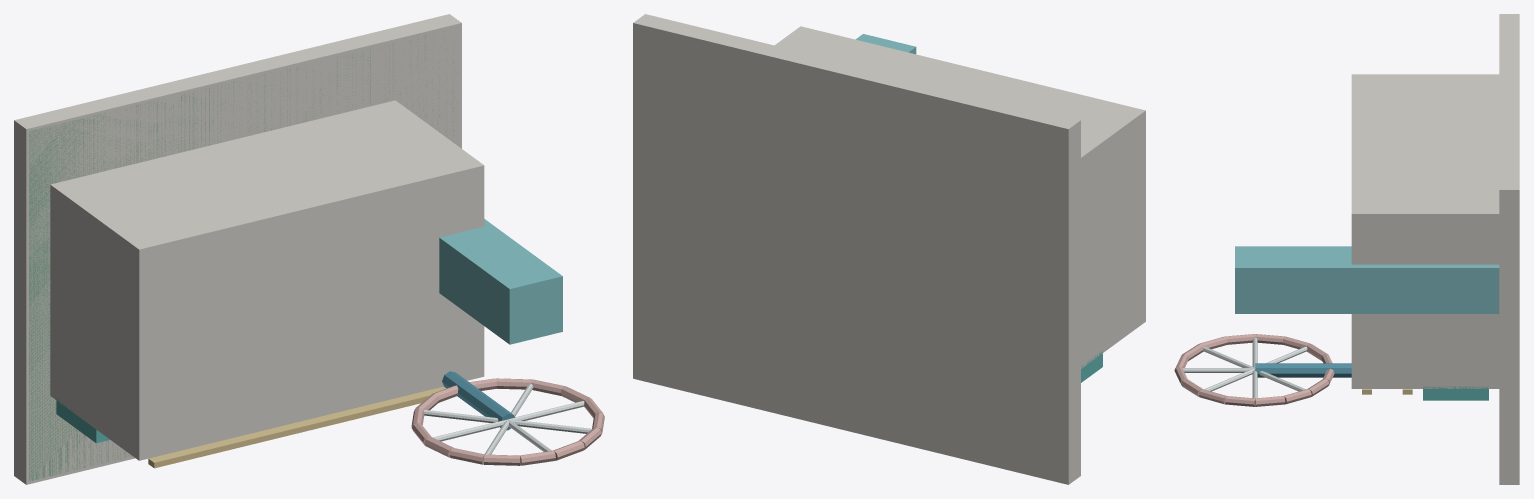
The model's file is dreammall.glb.
3 renders of one model, left to right at view 1: azimuth 30°, elevation 25°; view 2: azimuth 150°, elevation 25°; view 3: azimuth 270°, elevation 25°, orthographic. The views are drawn at different scales.
Parts seen in each view (by area): view 1: g2, g0, g1, g7, g6, g32, g3; view 2: g0, g2; view 3: g2, g7, g0, g32, g3.
Part boxes in pixels (<box>): g2: <box>50,100,484,460</box>; g0: <box>14,14,461,484</box>; g1: <box>29,27,457,480</box>; g7: <box>439,219,562,344</box>; g6: <box>148,386,446,468</box>; g32: <box>442,371,514,430</box>; g3: <box>56,398,109,443</box>; g0: <box>633,14,1080,484</box>; g2: <box>774,26,1145,368</box>; g2: <box>1351,74,1499,388</box>; g7: <box>1235,246,1499,313</box>; g0: <box>1499,14,1519,484</box>; g32: <box>1255,363,1351,377</box>; g3: <box>1423,386,1488,400</box>.
Bounding box in the file's own units: 82 × 64 × 67.88.
